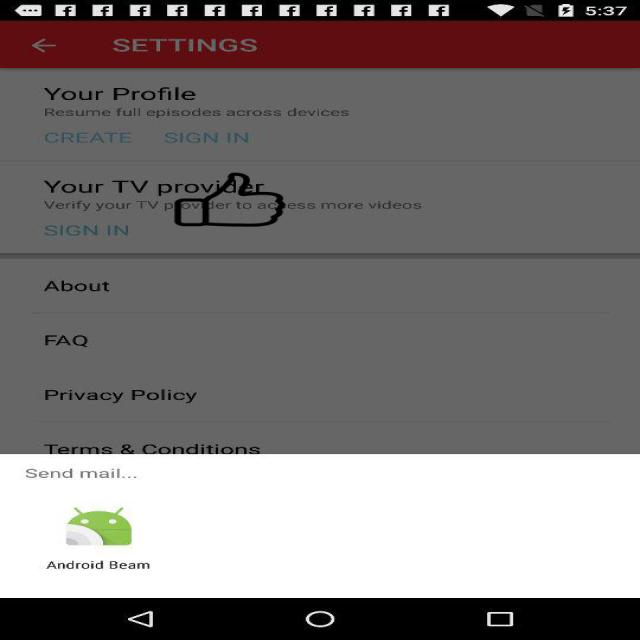privacy zuckering: (173, 172, 287, 226)
